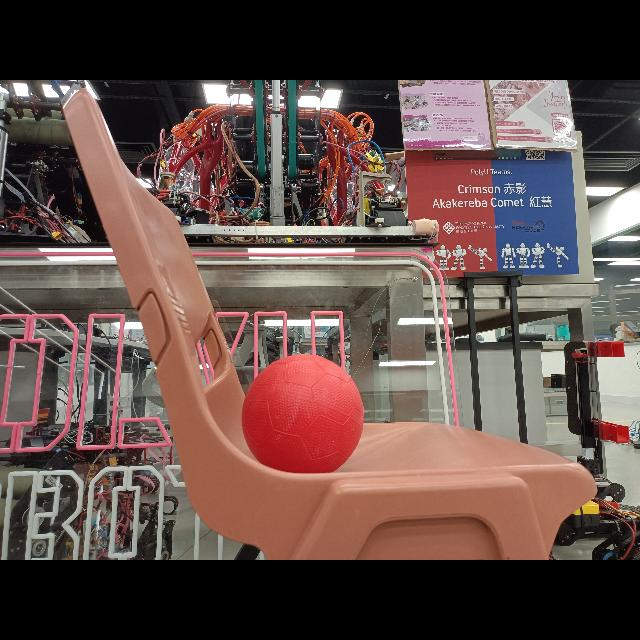R: (242, 354, 364, 476)
